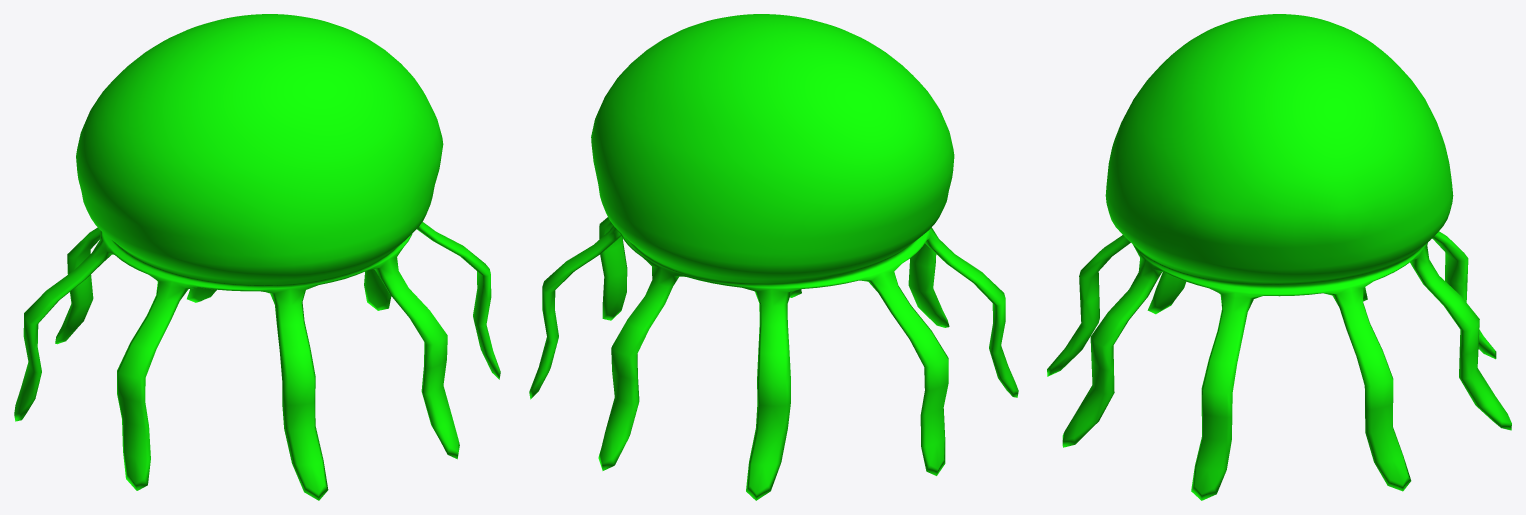
The model's file is kurage.FBX.
3 renders of one model, left to right at view 1: azimuth 30°, elevation 25°; view 2: azimuth 150°, elevation 25°; view 3: azimuth 270°, elevation 25°, orthographic.
Parts seen in each view (by area): view 1: Sphere001; view 2: Sphere001; view 3: Sphere001.
Part boxes in pixels (bbox=[...]): Sphere001: bbox=[14, 14, 500, 500]; Sphere001: bbox=[529, 14, 1018, 500]; Sphere001: bbox=[1047, 14, 1511, 500].
Bounding box in the file's own units: 116 × 115 × 101.
Materials: 1 (1 with a texture image).
